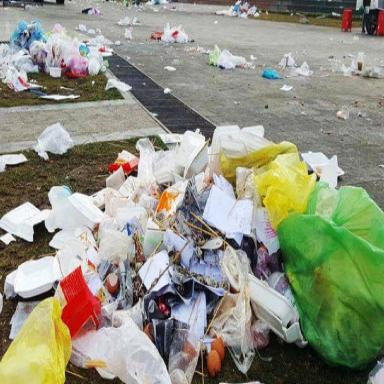plasticbag: (8, 198, 158, 382), (266, 158, 380, 370), (5, 16, 107, 84), (31, 119, 75, 164), (332, 50, 383, 84), (147, 24, 193, 45), (116, 13, 142, 43), (214, 46, 249, 67), (277, 51, 296, 68), (294, 62, 314, 77), (260, 66, 279, 81)
